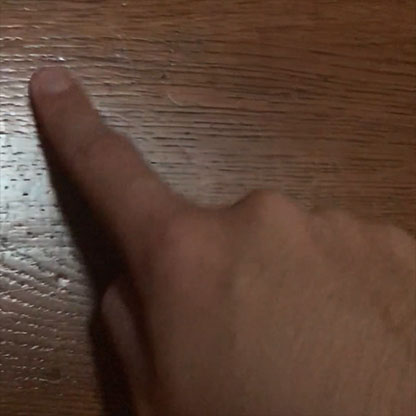fingertip: (11, 53, 93, 120)
